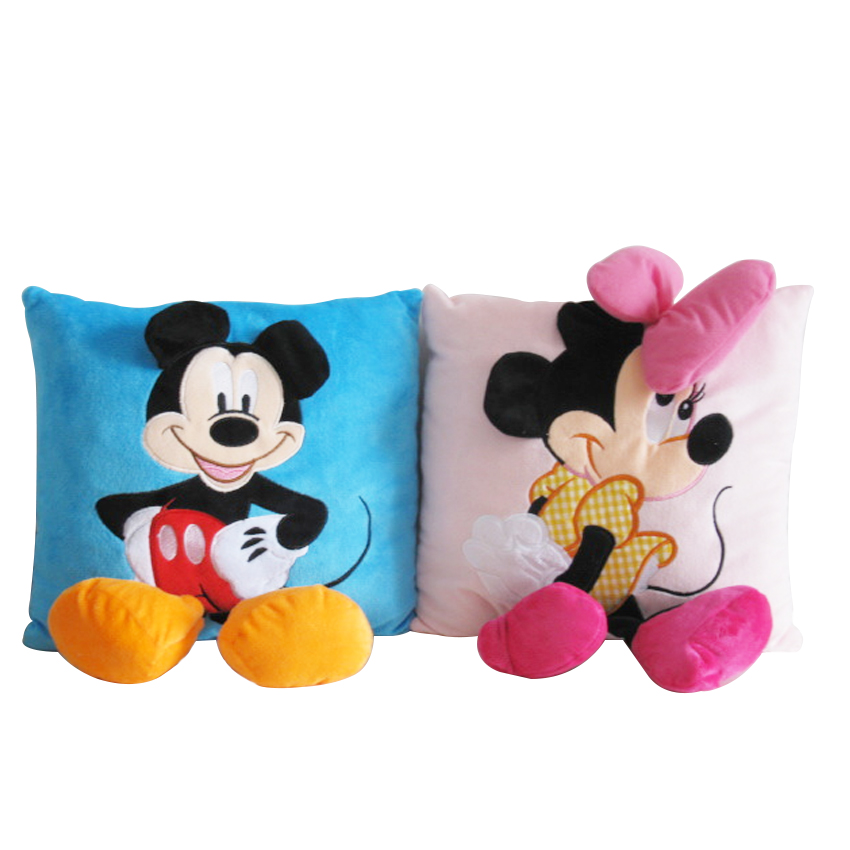Mickey: (135, 300, 330, 496)
